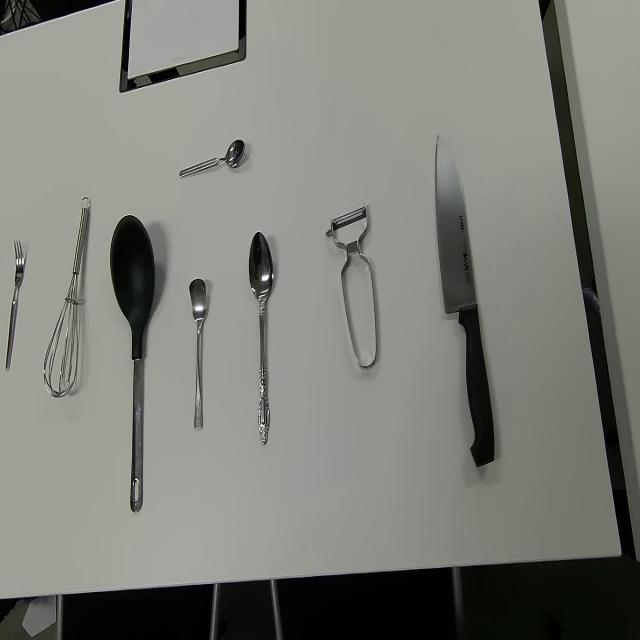Desert-Spoon: (248, 230, 274, 446)
Dinner-Fork: (4, 239, 25, 373)
Kitchen-Knife: (434, 132, 496, 469)
Peeler: (324, 202, 378, 372)
Serving-Spoon: (110, 213, 156, 512)
Tea-Spoon: (188, 276, 208, 431), (178, 138, 246, 180)
Whisk: (42, 196, 92, 398)
